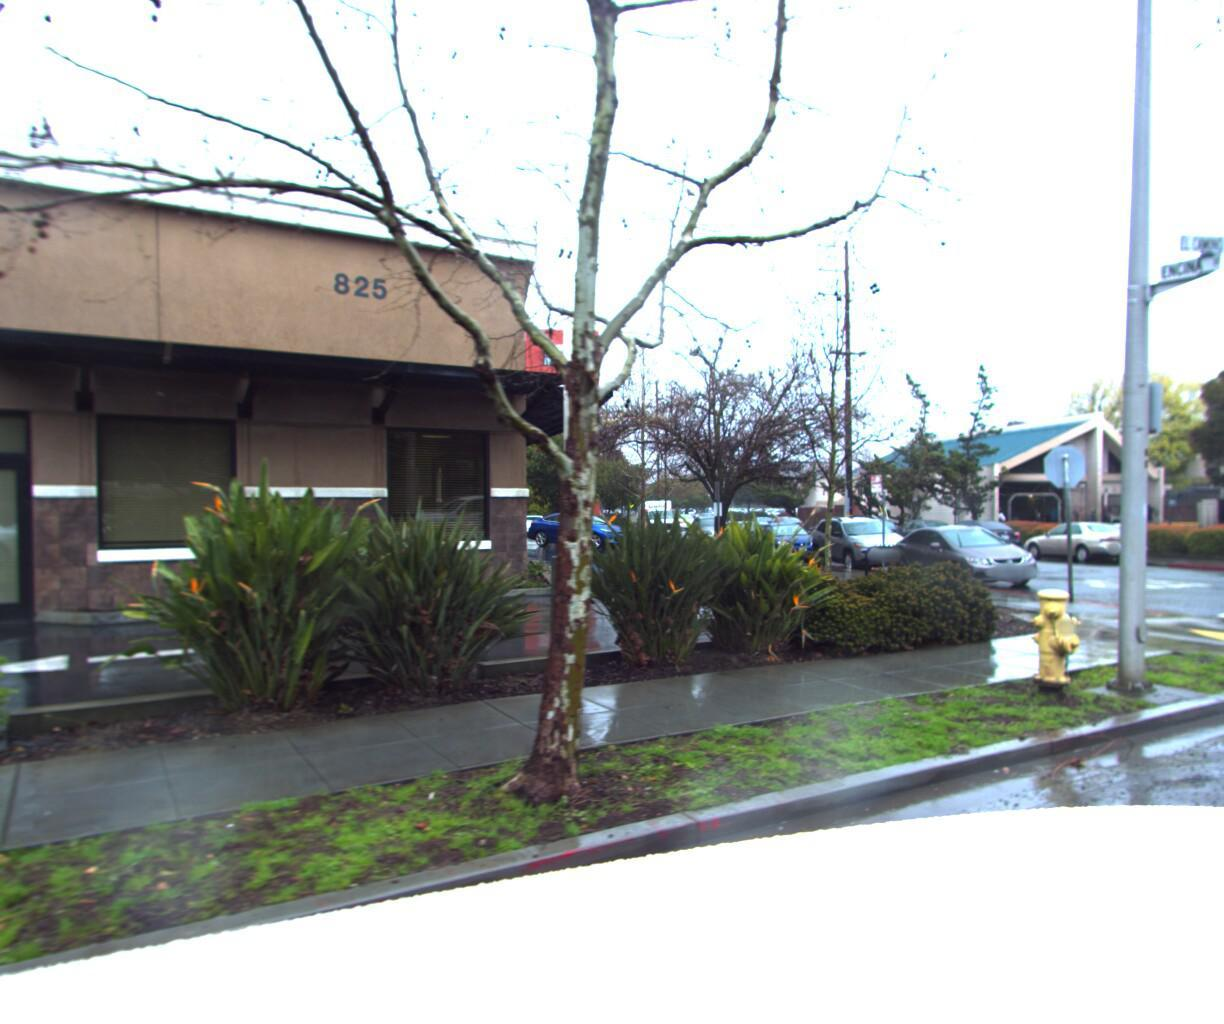car: (881, 515, 1050, 587), (804, 510, 921, 570), (1018, 513, 1156, 562), (522, 507, 640, 550), (933, 514, 1026, 554), (746, 515, 825, 561), (684, 510, 741, 545), (609, 508, 641, 529), (664, 513, 698, 530)
truck: (631, 496, 680, 533)
